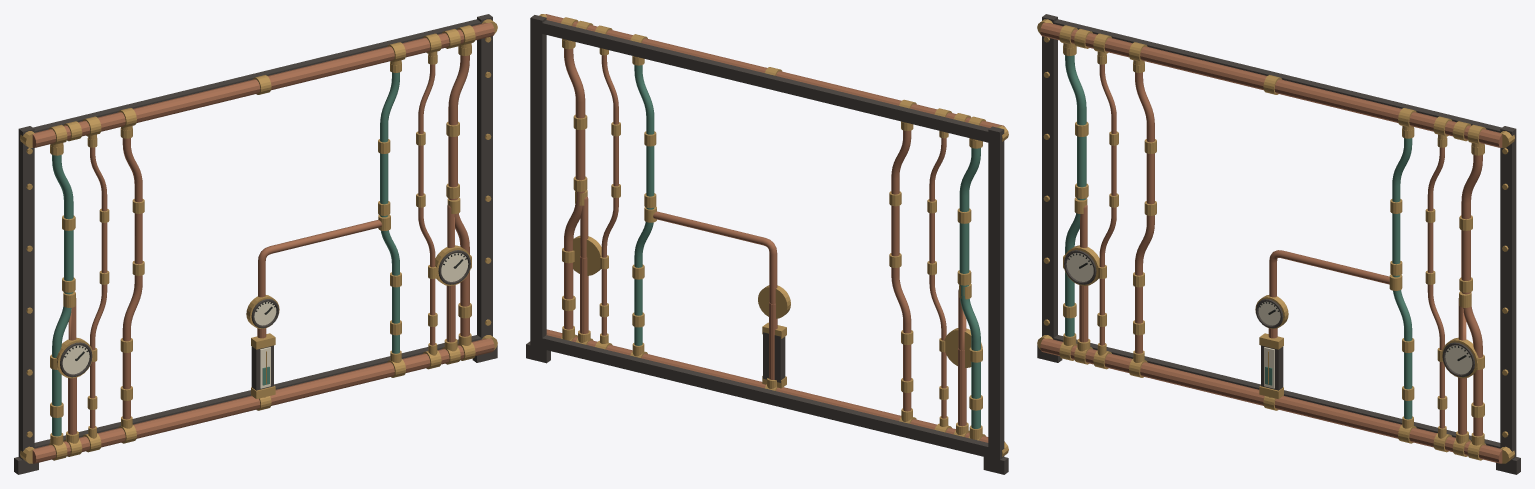
Rendered from gallery-pipes.glb.
The picture shows the model from 3 angles, left to right: view 1: azimuth 30°, elevation 25°; view 2: azimuth 150°, elevation 25°; view 3: azimuth 330°, elevation 25°; orthographic projection.
Visible parts, largest first — view 1: body-copper.002, body-cast iron.002, body-aged brass.002, body-oxidized copper.002, body-porcelain.002; view 2: body-cast iron.002, body-copper.002, body-aged brass.002, body-oxidized copper.002; view 3: body-copper.002, body-cast iron.002, body-aged brass.002, body-oxidized copper.002, body-porcelain.002.
Part boxes in pixels (box(x1,y1,x2,y2)): body-copper.002: box(32, 22, 494, 463); body-cast iron.002: box(14, 14, 497, 474); body-aged brass.002: box(20, 19, 497, 463); body-oxidized copper.002: box(52, 72, 399, 436); body-porcelain.002: box(62, 253, 468, 388); body-cast iron.002: box(526, 15, 1008, 474); body-copper.002: box(545, 14, 1004, 442); body-aged brass.002: box(539, 14, 1008, 456); body-oxidized copper.002: box(634, 65, 980, 428); body-copper.002: box(1040, 22, 1502, 463); body-cast iron.002: box(1037, 14, 1520, 474); body-aged brass.002: box(1037, 19, 1514, 463); body-oxidized copper.002: box(1065, 55, 1412, 419); body-porcelain.002: box(1066, 253, 1472, 388).
Size of the model in its own units: 3.24 by 2.21 by 0.153.
